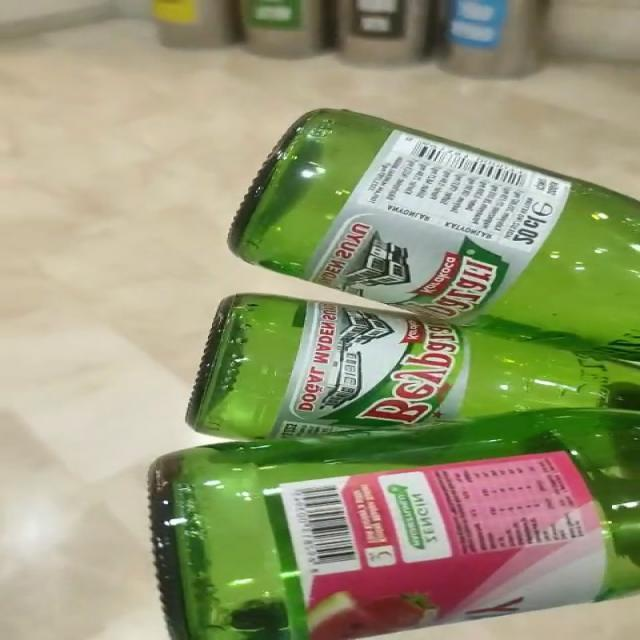Glass: (148, 110, 640, 640)
